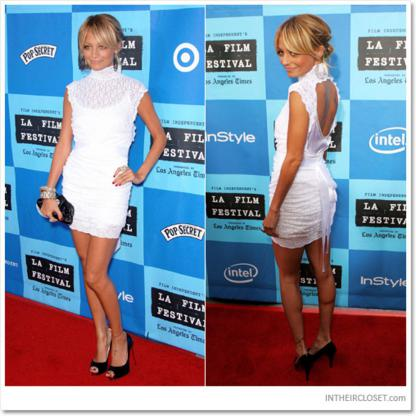face: (279, 28, 317, 77), (83, 27, 116, 71)
